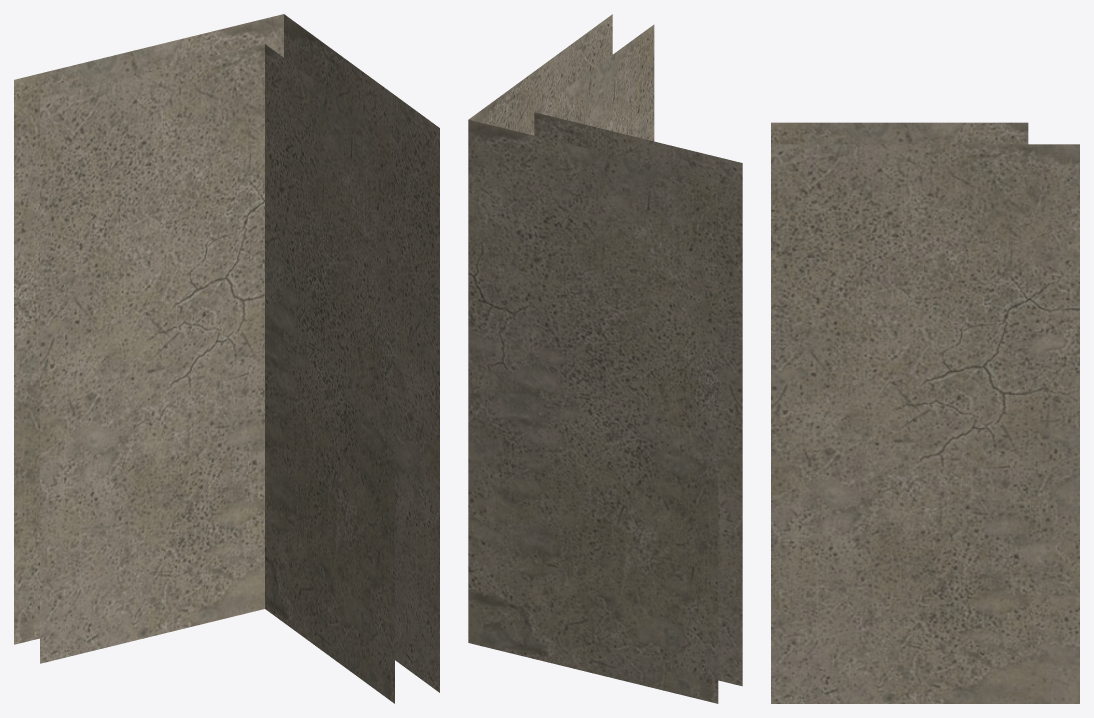
The model's file is ARC1010307.fbx.
3 renders of one model, left to right at view 1: azimuth 30°, elevation 25°; view 2: azimuth 150°, elevation 25°; view 3: azimuth 270°, elevation 25°, orthographic. The views are drawn at different scales.
Parts seen in each view (by area): view 1: smARC1010307; view 2: smARC1010307; view 3: smARC1010307.
Part boxes in pixels (x1,y1,x2,y2): smARC1010307: (14,14,439,703); smARC1010307: (468,14,742,703); smARC1010307: (771,122,1079,703).
Bounding box in the file's own units: 134 × 268 × 134.
Materials: 1 (1 with a texture image).
